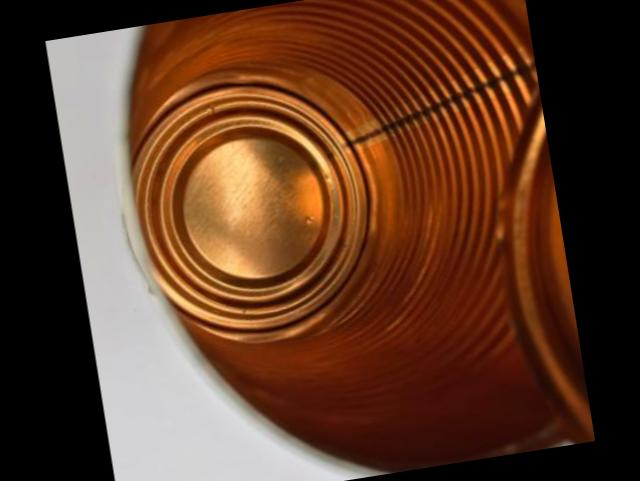metal: (127, 0, 595, 473)
